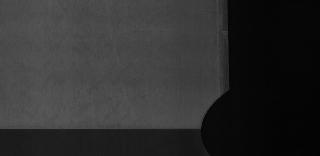welding line: (1, 121, 213, 137)
